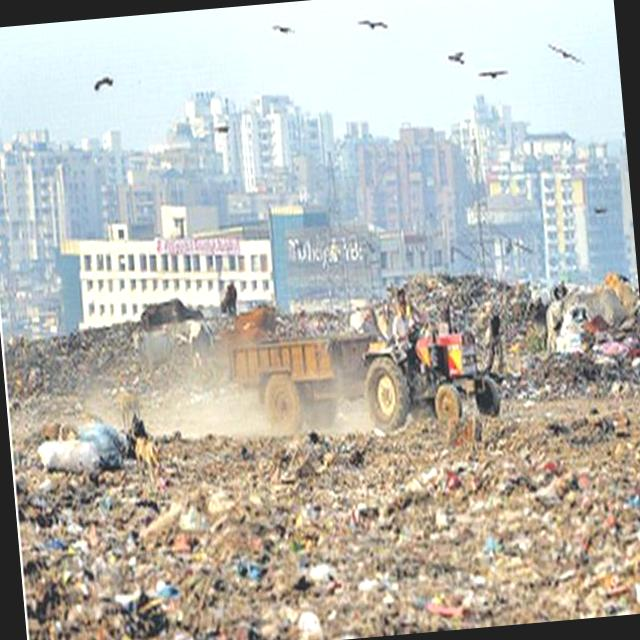garbage: (48, 403, 640, 640)
